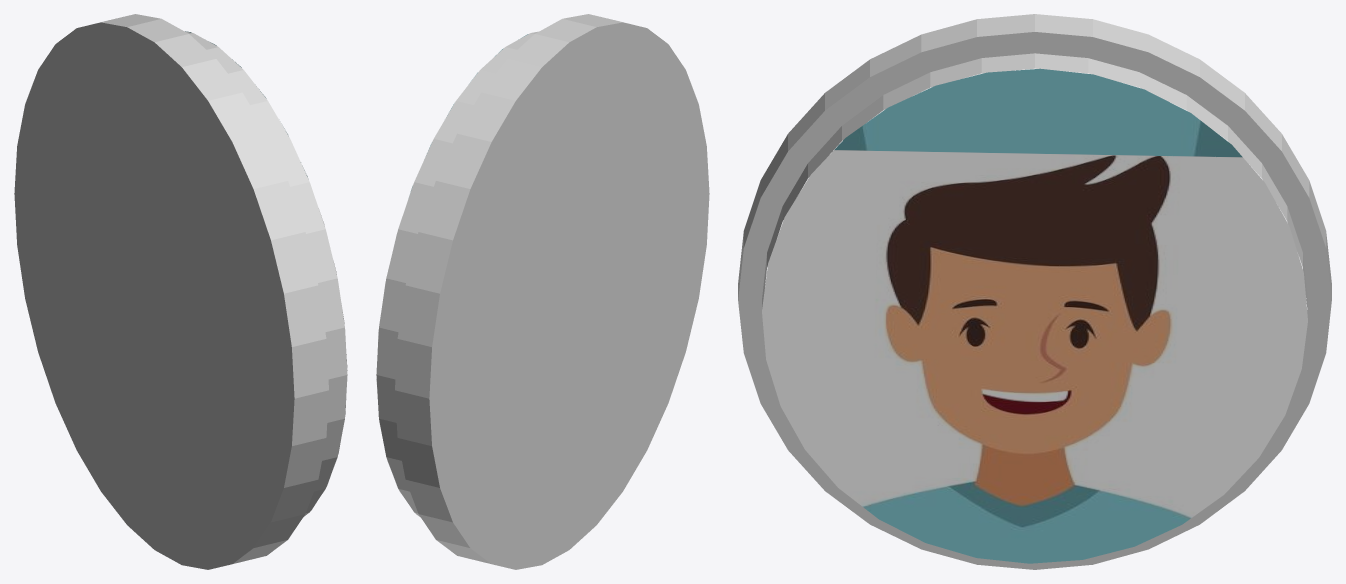
Rendered from son.gltf.
3 views of the same model, side by side, from view 1: azimuth 30°, elevation 25°; view 2: azimuth 150°, elevation 25°; view 3: azimuth 270°, elevation 25° (orthographic). The views are drawn at different scales.
Visible parts, largest first — view 1: Cylinder.015, Cylinder.022; view 2: Cylinder.015, Cylinder.022; view 3: Cylinder.024, Cylinder.022, Cylinder.015.
Boxes of the visible parts, box(x1,y1,x2,y2) form: Cylinder.015: box(14, 14, 328, 569); Cylinder.022: box(185, 31, 347, 516); Cylinder.015: box(395, 14, 709, 569); Cylinder.022: box(376, 31, 538, 516); Cylinder.024: box(762, 68, 1307, 563); Cylinder.022: box(738, 32, 1331, 569); Cylinder.015: box(738, 14, 1331, 299).
Bounding box in the file's own units: 0.8839 × 6.68 × 6.68.
1 material, 1 textured.
